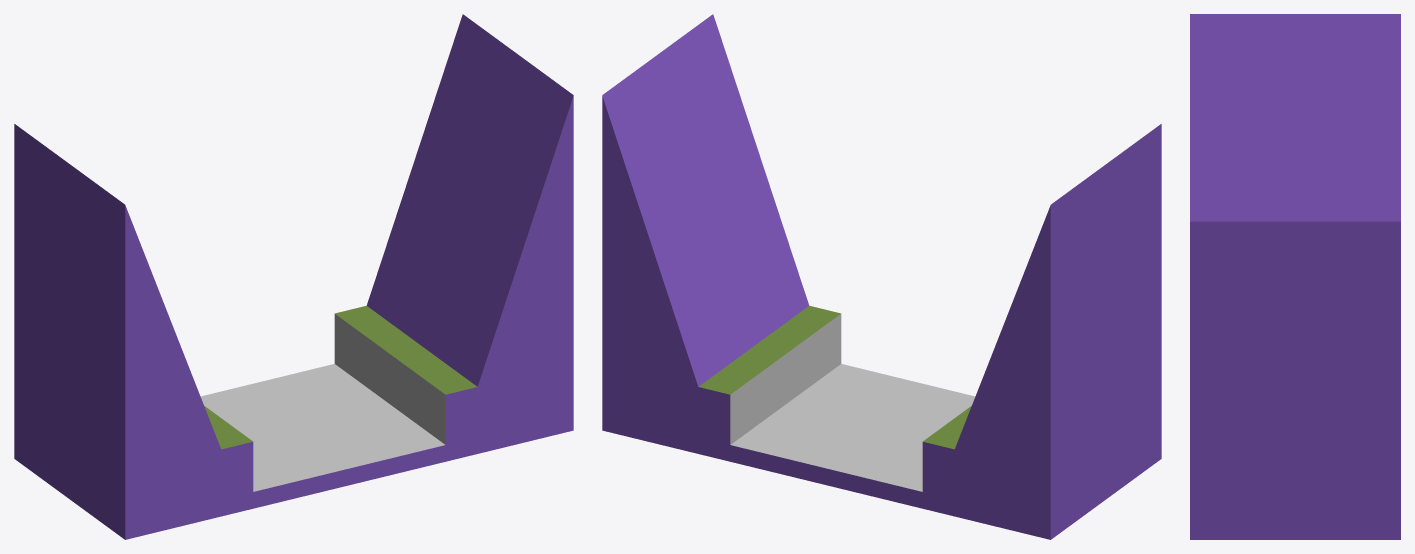
Rendered from 3x3mTile-color1.obj.
3 renders of one model, left to right at view 1: azimuth 30°, elevation 25°; view 2: azimuth 150°, elevation 25°; view 3: azimuth 270°, elevation 25°, orthographic. The views are drawn at different scales.
Parts seen in each view (by area): view 1: Solid1; view 2: Solid1; view 3: Solid1.
Boxes of the visible parts, x1,y1,x2,y2 form: Solid1: (14, 14, 573, 539); Solid1: (602, 14, 1161, 539); Solid1: (1190, 14, 1400, 539).
Size of the model in its own units: 7 by 5 by 3.
